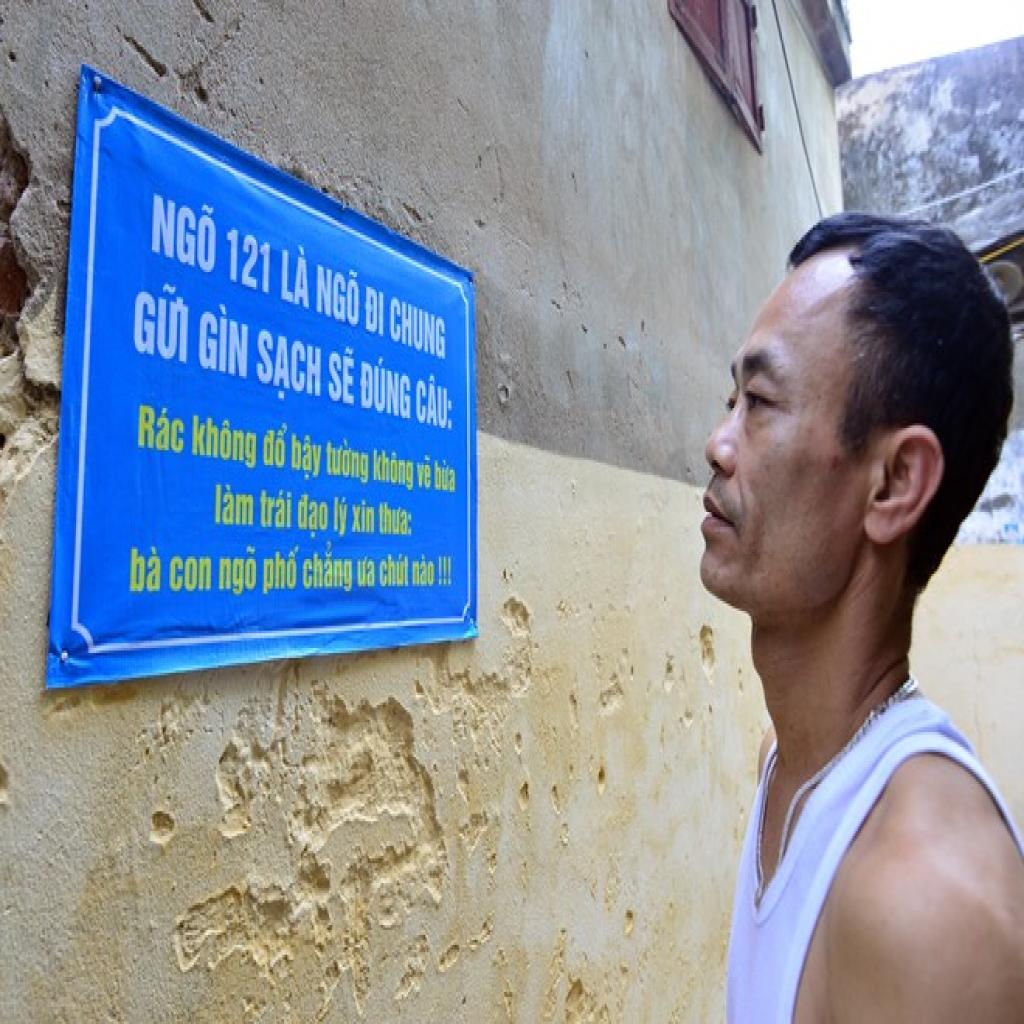text: (150, 183, 219, 280), (254, 327, 323, 413), (132, 275, 189, 366), (195, 297, 250, 381), (191, 410, 259, 472), (358, 352, 413, 426), (390, 294, 448, 364), (315, 255, 361, 329), (225, 225, 271, 297), (301, 537, 355, 596), (137, 403, 186, 458), (416, 368, 454, 433), (324, 438, 371, 490), (217, 544, 259, 599), (281, 238, 312, 312), (214, 482, 258, 532), (372, 448, 416, 497), (288, 430, 326, 485), (264, 544, 301, 599), (326, 339, 355, 408), (169, 554, 213, 594), (296, 492, 330, 542), (129, 546, 164, 594), (261, 418, 290, 472), (259, 487, 293, 532), (377, 502, 414, 539), (363, 282, 386, 339), (379, 552, 411, 588), (351, 497, 377, 539), (332, 495, 352, 539), (434, 458, 458, 494), (413, 554, 436, 589), (357, 554, 377, 591), (417, 450, 433, 495)
